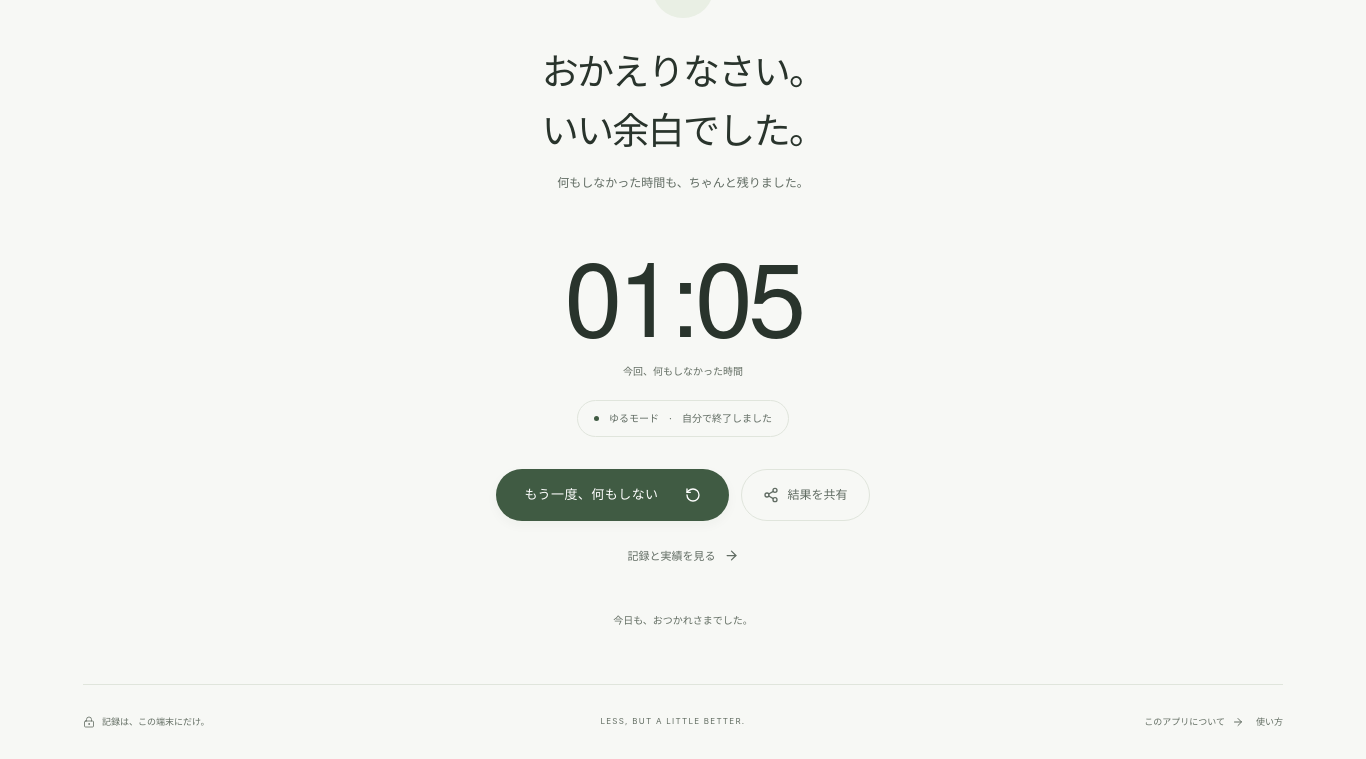
Test: result sharing › falls back to clipboard after a non-cancellation native share failure
The width and height of the screenshot is (1366, 759).
(page scrolled)
Click the button "結果を共有": [805, 495] box [741,469,870,521]
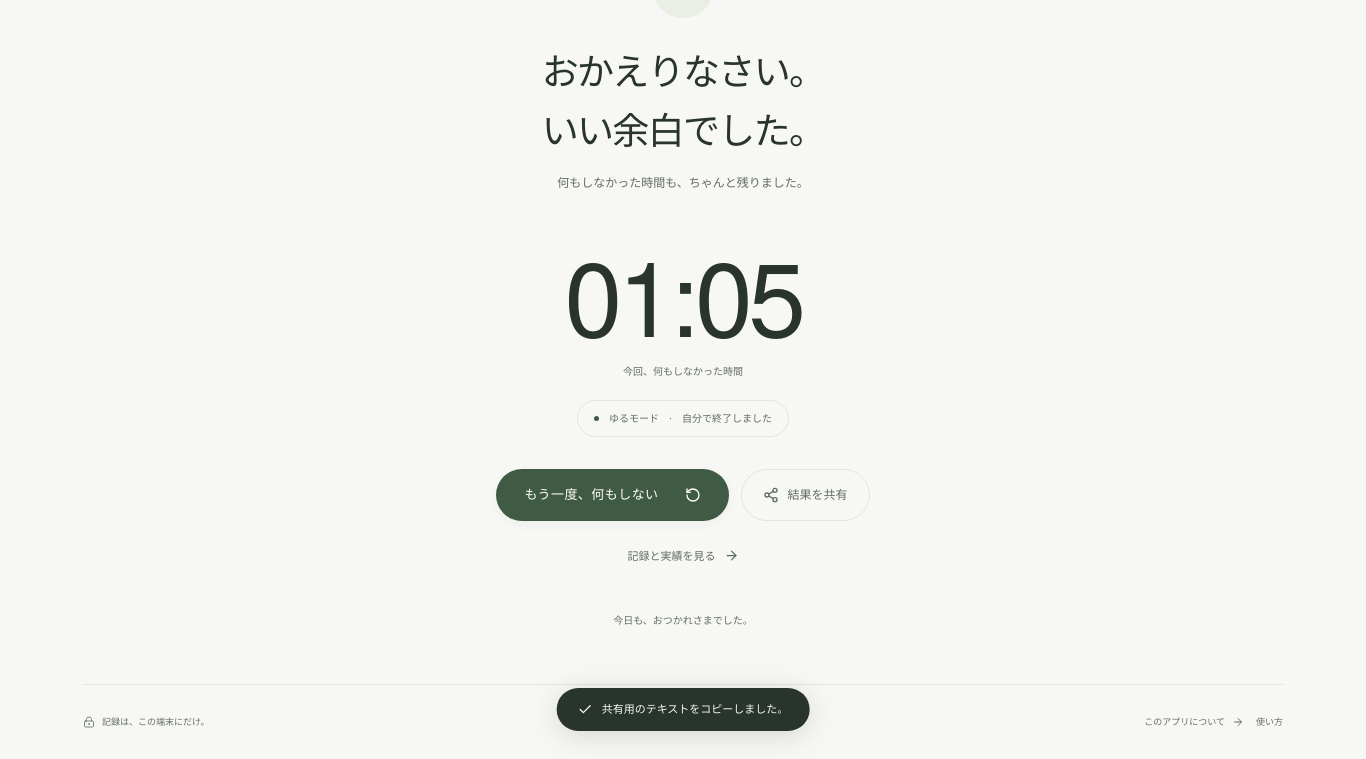
Now the text "共有用のテキストをコピーしました。" is shown, box [557,688,809,731]
